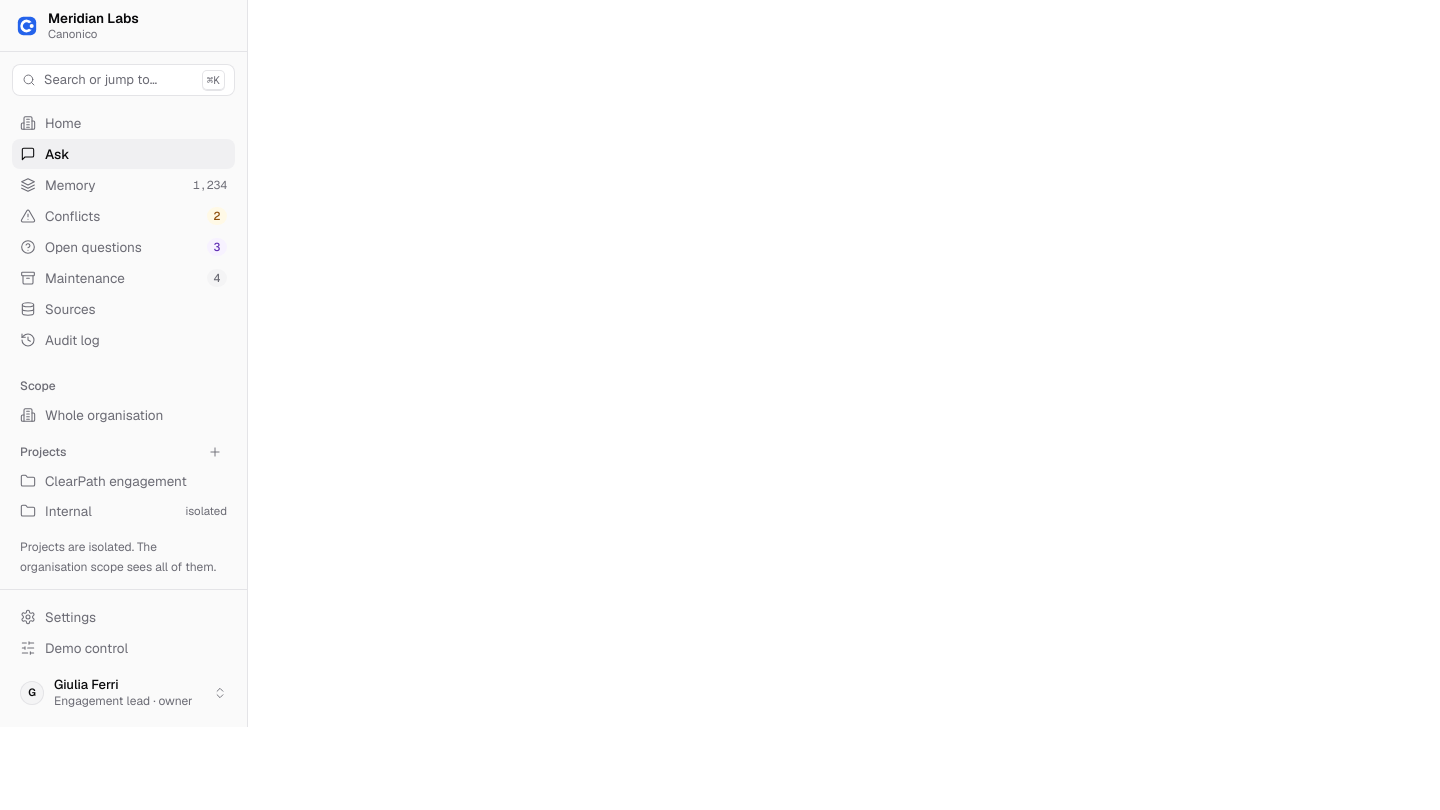
Test: Sidebar › new project › says why when it fails and keeps the dialog with what was typed
Click the button named "New project".
click(215, 452)  # box [203,440,227,464]
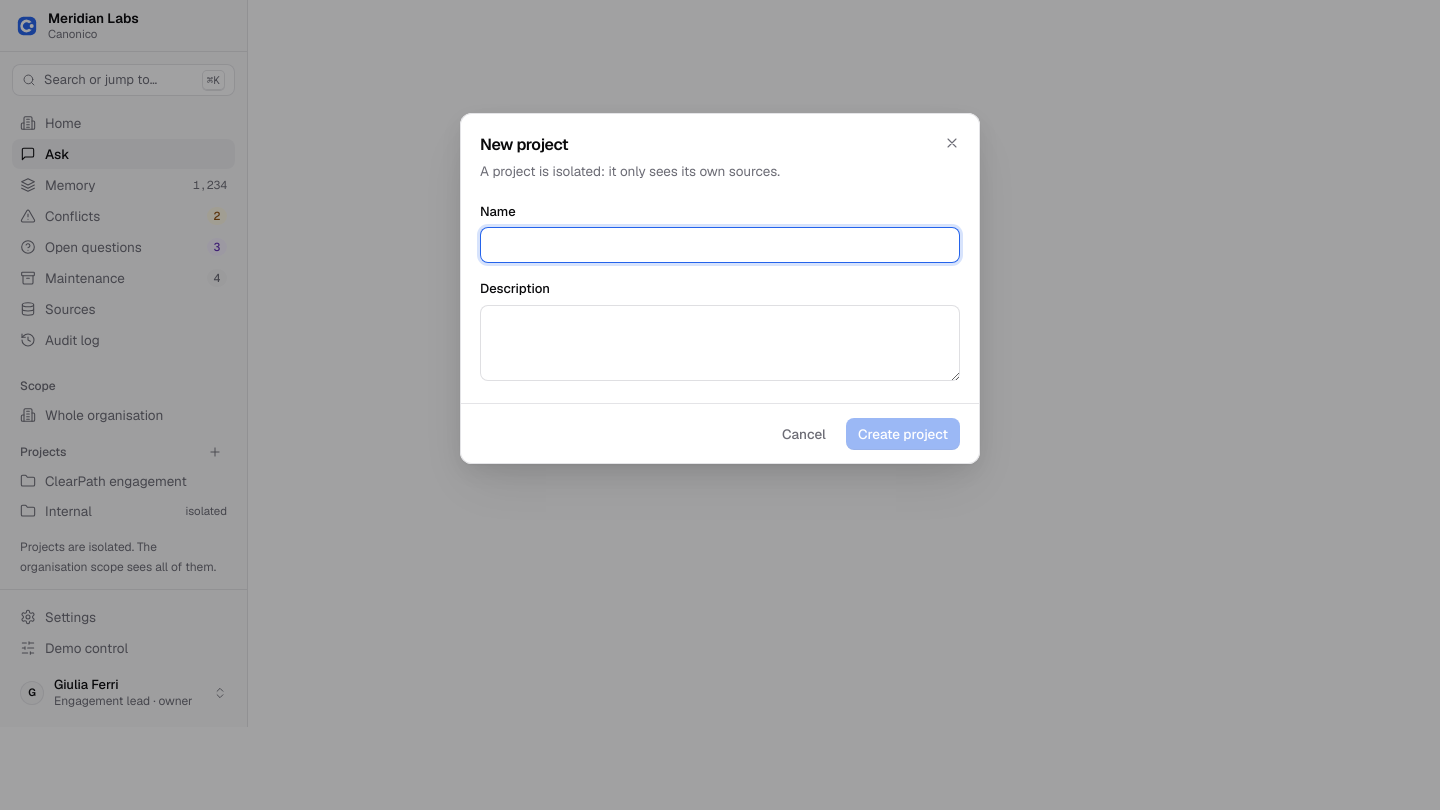
Type "Internal" into the field labelled "Name".
click(720, 245); type("Internal")  # box [480,227,960,263]
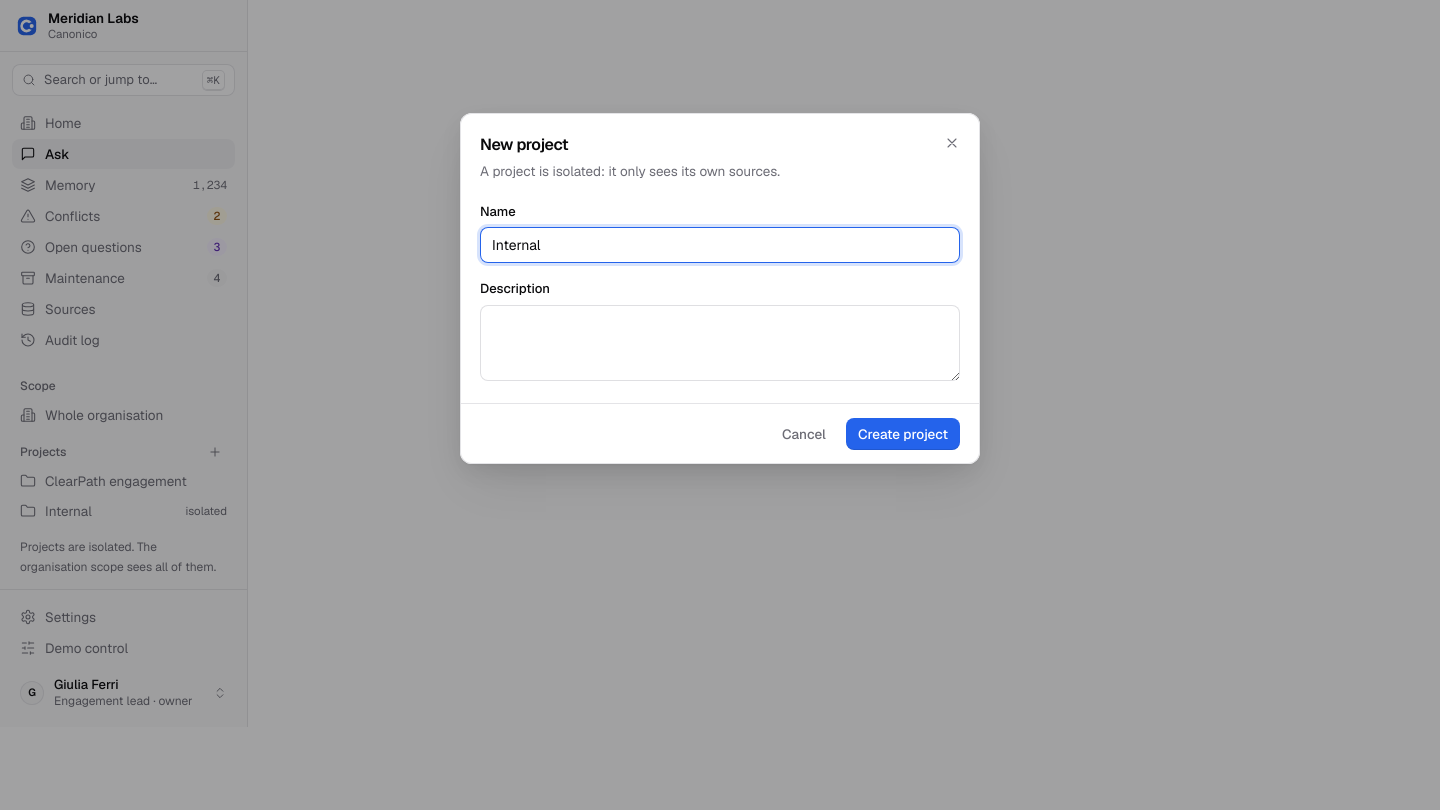
Click the button "Create project".
click(903, 434)  # box [846,418,960,450]
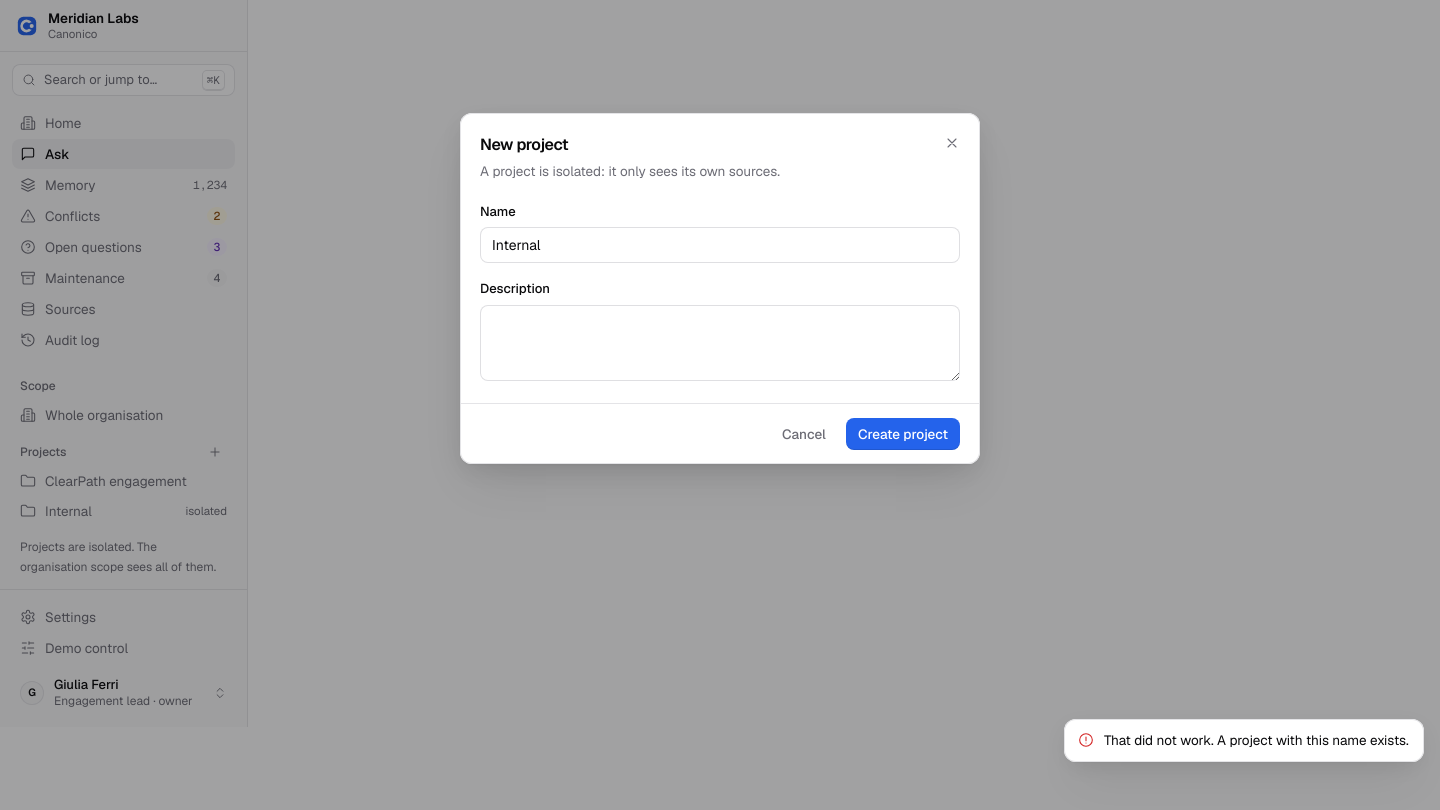
Now the button "Create project" is enabled, box [846,418,960,450]
Now the text "That did not work. A project with this name exists." is shown, box [1104,731,1410,750]
